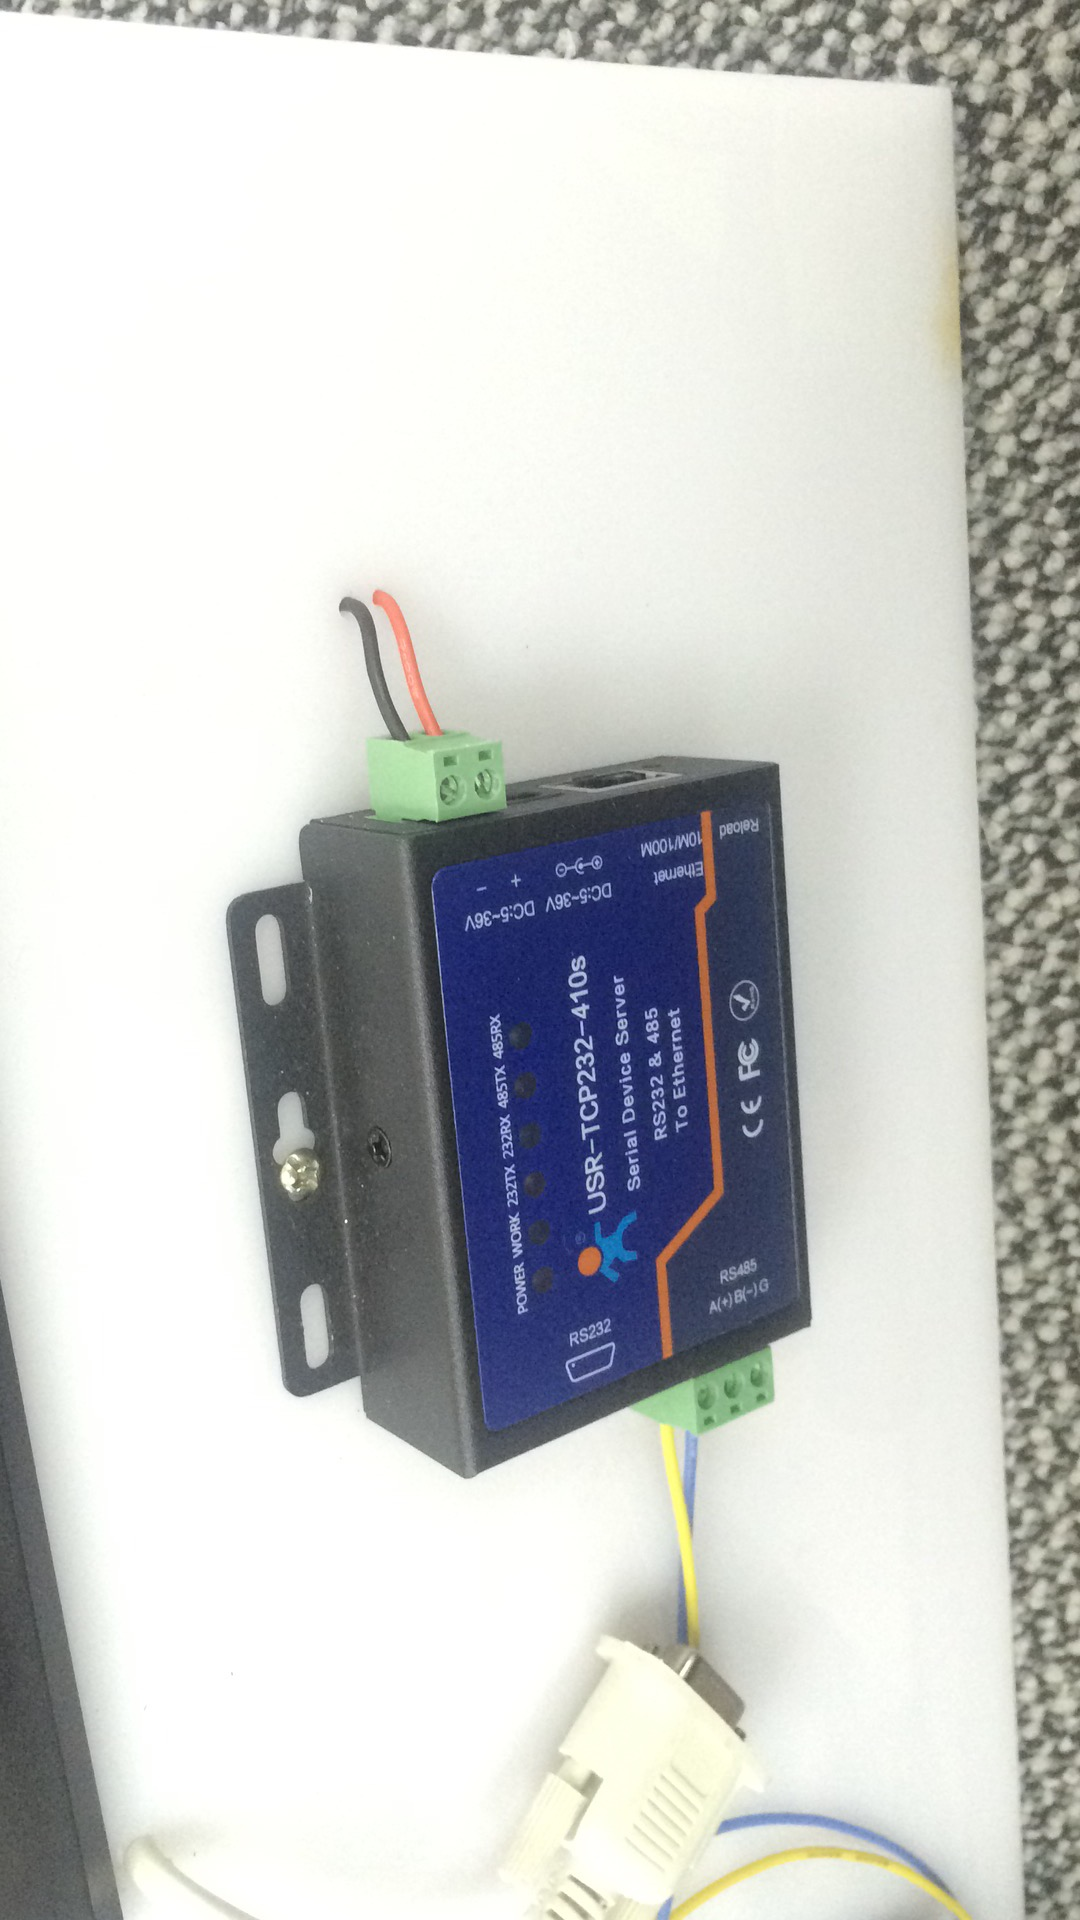modbus bridge: (211, 708, 835, 1487)
